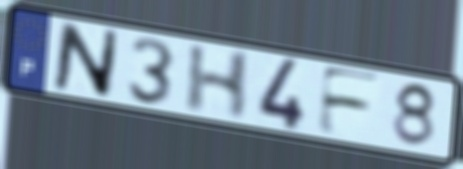3: (125, 36, 178, 108)
4: (254, 54, 308, 133)
8: (389, 81, 437, 149)
F: (314, 63, 386, 138)
H: (182, 42, 256, 122)
N: (50, 19, 122, 101)
